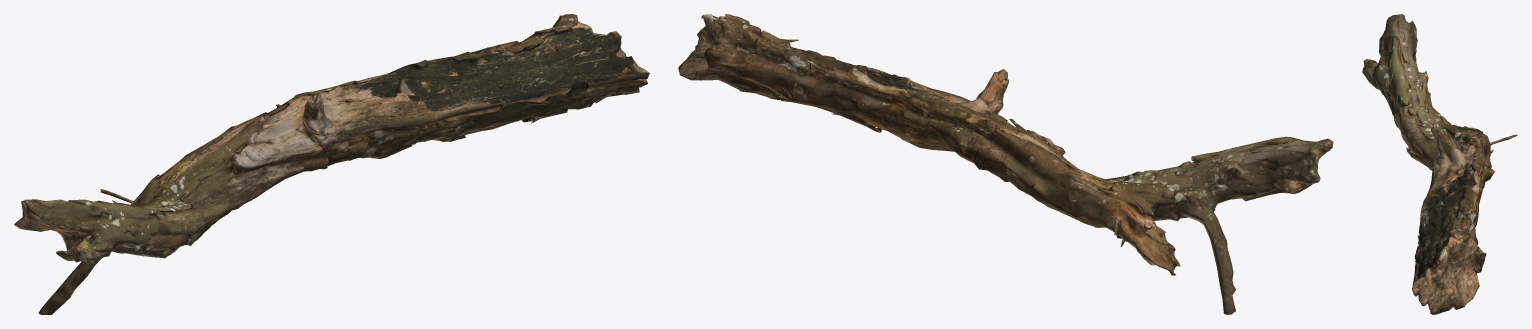
The model's file is dead_tree_trunk_02_lod2.glb.
3 renders of one model, left to right at view 1: azimuth 30°, elevation 25°; view 2: azimuth 150°, elevation 25°; view 3: azimuth 270°, elevation 25°, orthographic. The views are drawn at different scales.
Visible parts, largest first — view 1: dead_tree_trunk_02; view 2: dead_tree_trunk_02; view 3: dead_tree_trunk_02.
Boxes of the visible parts, bbox=[...] form: dead_tree_trunk_02: bbox=[14, 14, 649, 314]; dead_tree_trunk_02: bbox=[678, 14, 1333, 314]; dead_tree_trunk_02: bbox=[1362, 14, 1517, 314].
Size of the model in its own units: 4.05 by 1.05 by 1.05.
Materials: 1 (1 with a texture image).
